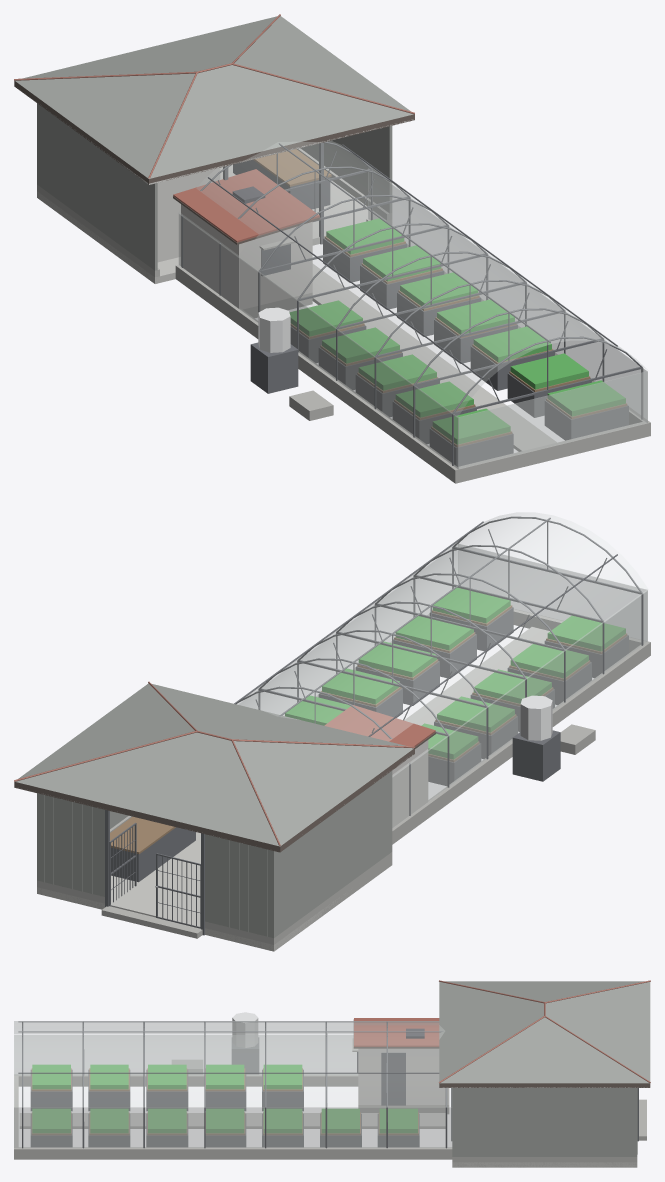
Rendered from plot18_screenhouse_9.glb.
3 views of the same model, one above another, from view 1: azimuth 30°, elevation 25°; view 2: azimuth 150°, elevation 25°; view 3: azimuth 270°, elevation 25° (orthographic). The views are drawn at different scales.
Visible parts, largest first — view 1: SH9_SH9_GreenhouseMesh, SH9_SH9_AgedCorrugated, SH9_SH9_DarkSteelTruss, SH9_SH9_SeedlingCanopy, SH9_SH9_PlinthConcrete, SH9_SH9_PlasterWall, SH9_SH9_FloorSlab, SH9_SH9_RustyRedRoof, SH9_SH9_TimberWood, SH9_SH9_DarkFascia, SH9_SH9_RedHipTrim, SH9_SH9_WhitePlastic; view 2: SH9_SH9_GreenhouseMesh, SH9_SH9_AgedCorrugated, SH9_SH9_DarkSteelTruss, SH9_SH9_SeedlingCanopy, SH9_SH9_PlinthConcrete, SH9_SH9_FloorSlab, SH9_SH9_TimberWood, SH9_SH9_DarkFascia, SH9_SH9_RustyRedRoof, SH9_SH9_PlasterWall, SH9_SH9_RedHipTrim, SH9_SH9_WhitePlastic; view 3: SH9_SH9_GreenhouseMesh, SH9_SH9_AgedCorrugated, SH9_SH9_DarkSteelTruss, SH9_SH9_SeedlingCanopy, SH9_SH9_PlinthConcrete, SH9_SH9_PlasterWall, SH9_SH9_FloorSlab, SH9_SH9_RustyRedRoof, SH9_SH9_TimberWood, SH9_SH9_DarkFascia, SH9_SH9_RedHipTrim, SH9_SH9_WhitePlastic.
Part boxes in pixels (bbox=[...]): SH9_SH9_GreenhouseMesh: bbox=[178, 141, 647, 469]; SH9_SH9_AgedCorrugated: bbox=[15, 16, 413, 270]; SH9_SH9_DarkSteelTruss: bbox=[181, 141, 643, 466]; SH9_SH9_SeedlingCanopy: bbox=[289, 218, 625, 444]; SH9_SH9_PlinthConcrete: bbox=[37, 148, 650, 483]; SH9_SH9_PlasterWall: bbox=[157, 168, 312, 309]; SH9_SH9_FloorSlab: bbox=[37, 164, 556, 451]; SH9_SH9_RustyRedRoof: bbox=[173, 169, 319, 242]; SH9_SH9_TimberWood: bbox=[253, 149, 627, 447]; SH9_SH9_DarkFascia: bbox=[14, 81, 414, 244]; SH9_SH9_RedHipTrim: bbox=[14, 14, 414, 178]; SH9_SH9_WhitePlastic: bbox=[258, 307, 290, 352]; SH9_SH9_GreenhouseMesh: bbox=[236, 512, 648, 828]; SH9_SH9_AgedCorrugated: bbox=[15, 683, 413, 938]; SH9_SH9_DarkSteelTruss: bbox=[105, 516, 643, 935]; SH9_SH9_SeedlingCanopy: bbox=[285, 587, 625, 759]; SH9_SH9_PlinthConcrete: bbox=[37, 609, 650, 951]; SH9_SH9_FloorSlab: bbox=[37, 627, 549, 951]; SH9_SH9_TimberWood: bbox=[110, 605, 627, 854]; SH9_SH9_DarkFascia: bbox=[14, 732, 436, 852]; SH9_SH9_RustyRedRoof: bbox=[324, 705, 435, 746]; SH9_SH9_PlasterWall: bbox=[392, 740, 428, 827]; SH9_SH9_RedHipTrim: bbox=[14, 681, 414, 845]; SH9_SH9_WhitePlastic: bbox=[520, 695, 552, 740]; SH9_SH9_GreenhouseMesh: bbox=[14, 1021, 452, 1147]; SH9_SH9_AgedCorrugated: bbox=[439, 981, 650, 1156]; SH9_SH9_DarkSteelTruss: bbox=[18, 1021, 638, 1148]; SH9_SH9_SeedlingCanopy: bbox=[32, 1064, 417, 1133]; SH9_SH9_PlinthConcrete: bbox=[14, 1038, 646, 1167]; SH9_SH9_PlasterWall: bbox=[358, 1048, 449, 1104]; SH9_SH9_FloorSlab: bbox=[19, 1113, 637, 1167]; SH9_SH9_RustyRedRoof: bbox=[354, 1018, 439, 1046]; SH9_SH9_TimberWood: bbox=[31, 1068, 418, 1135]; SH9_SH9_DarkFascia: bbox=[353, 1019, 650, 1087]; SH9_SH9_RedHipTrim: bbox=[439, 980, 650, 1083]; SH9_SH9_WhitePlastic: bbox=[232, 1012, 258, 1047].
Bounding box in the file's own units: 8.75 × 4.32 × 22.02.
